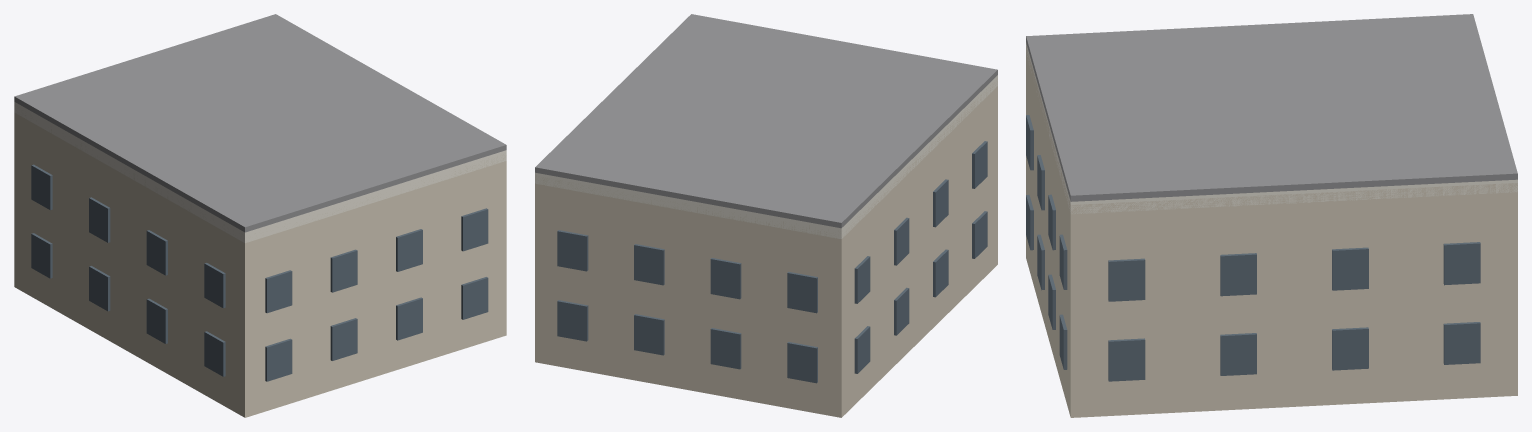
The model's file is s01_gis_248020_820714.glb.
3 views of the same model, side by side, from view 1: azimuth 30°, elevation 25°; view 2: azimuth 150°, elevation 25°; view 3: azimuth 270°, elevation 25° (orthographic). The views are drawn at different scales.
Parts seen in each view (by area): view 1: mass, roofcap, cornice, win_2_1_0, win_2_0_1, win_2_1_1, win_2_1_3, win_2_0_0, win_2_0_3, win_2_1_2, win_2_0_2, win_1_0_3 (+7 smaller); view 2: mass, roofcap, cornice, win_0_0_2, win_0_0_0, win_0_1_0, win_0_1_2, win_0_0_1, win_0_1_3, win_0_1_1, win_0_0_3, win_1_1_0 (+7 smaller); view 3: mass, roofcap, cornice, win_3_0_0, win_3_1_0, win_3_1_3, win_3_0_3, win_3_0_2, win_3_1_2, win_3_0_1, win_3_1_1.
Part boxes in pixels (bbox=[...]): mass: bbox=[14, 105, 506, 417]; roofcap: bbox=[14, 14, 506, 232]; cornice: bbox=[14, 102, 506, 243]; win_2_1_0: bbox=[265, 270, 292, 313]; win_2_0_1: bbox=[330, 318, 357, 360]; win_2_1_1: bbox=[330, 249, 357, 292]; win_2_1_3: bbox=[461, 208, 488, 251]; win_2_0_0: bbox=[265, 338, 292, 381]; win_2_0_3: bbox=[461, 277, 488, 319]; win_2_1_2: bbox=[396, 229, 422, 271]; win_2_0_2: bbox=[396, 297, 422, 340]; win_1_0_3: bbox=[204, 331, 225, 376]; mass: bbox=[535, 79, 997, 417]; roofcap: bbox=[535, 14, 997, 228]; cornice: bbox=[535, 75, 997, 238]; win_0_0_2: bbox=[710, 328, 741, 369]; win_0_0_0: bbox=[557, 300, 588, 341]; win_0_1_0: bbox=[557, 230, 588, 271]; win_0_1_2: bbox=[710, 258, 741, 299]; win_0_0_1: bbox=[634, 314, 664, 355]; win_0_1_3: bbox=[787, 271, 817, 313]; win_0_1_1: bbox=[634, 244, 664, 285]; win_0_0_3: bbox=[787, 342, 817, 383]; win_1_1_0: bbox=[854, 256, 870, 303]; mass: bbox=[1026, 46, 1517, 417]; roofcap: bbox=[1026, 14, 1517, 201]; cornice: bbox=[1026, 42, 1517, 213]; win_3_0_0: bbox=[1108, 338, 1145, 381]; win_3_1_0: bbox=[1108, 258, 1145, 301]; win_3_1_3: bbox=[1443, 242, 1480, 285]; win_3_0_3: bbox=[1443, 322, 1480, 364]; win_3_0_2: bbox=[1332, 327, 1368, 370]; win_3_1_2: bbox=[1332, 247, 1368, 290]; win_3_0_1: bbox=[1220, 333, 1256, 375]; win_3_1_1: bbox=[1220, 253, 1256, 296].
Size of the model in its own units: 14.64 by 8.35 by 16.75.
